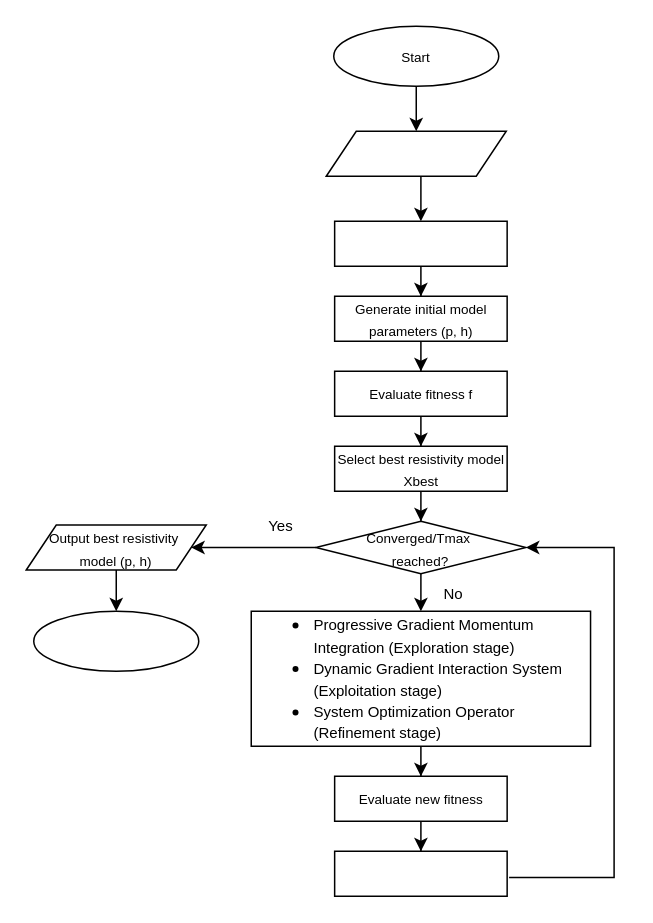
The diagram is 653 pixels wide and 923 high, and some of its shapes have lost their labels. The shapes that lost their labels are listed below. From the top down, each one's box as (x1, y1, x2, y2) in pixels, then its label:
(325, 130, 506, 176): Input MT observed data(ρa,ϕ)
(333, 220, 507, 266): Initialize AGDO parameters (N, population, Tmax)
(32, 610, 199, 671): End
(333, 850, 507, 896): Updare best solution Xbest
